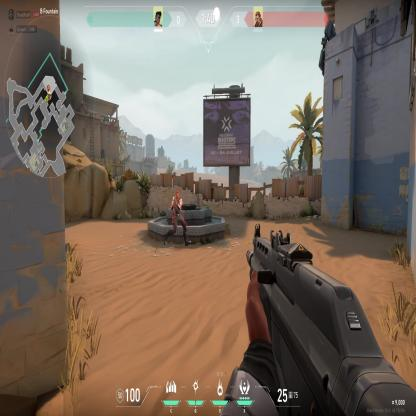enemy: (163, 190, 191, 249)
